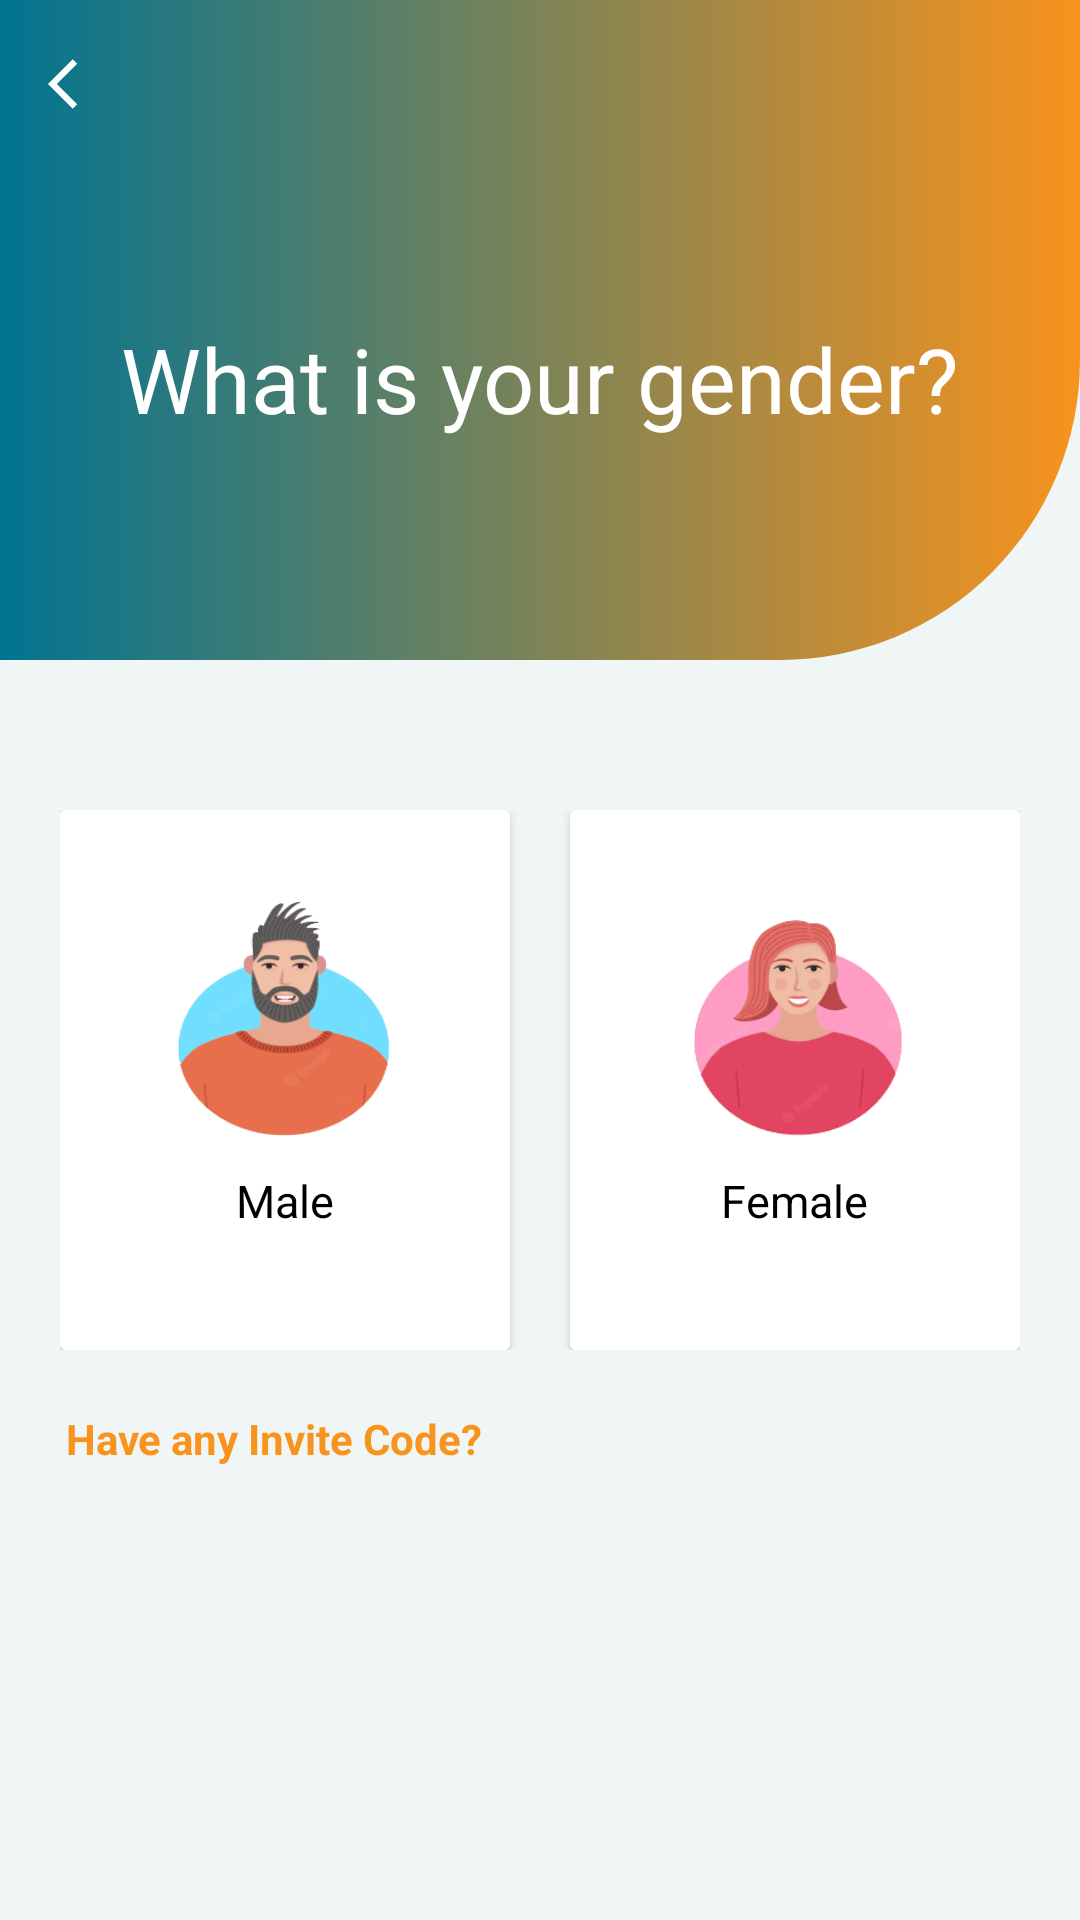

Icons on this 1080x1920 Android screen, each with its box as [left=x1, top=y1, right=x2, bottom=y2]:
arrow back: [left=48, top=59, right=77, bottom=109]
